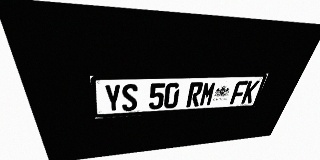0: (163, 83, 180, 109)
5: (149, 83, 165, 110)
F: (229, 81, 249, 104)
K: (241, 80, 260, 104)
M: (199, 82, 217, 106)
R: (186, 82, 204, 107)
S: (121, 84, 138, 111)
Y: (103, 84, 122, 112)
